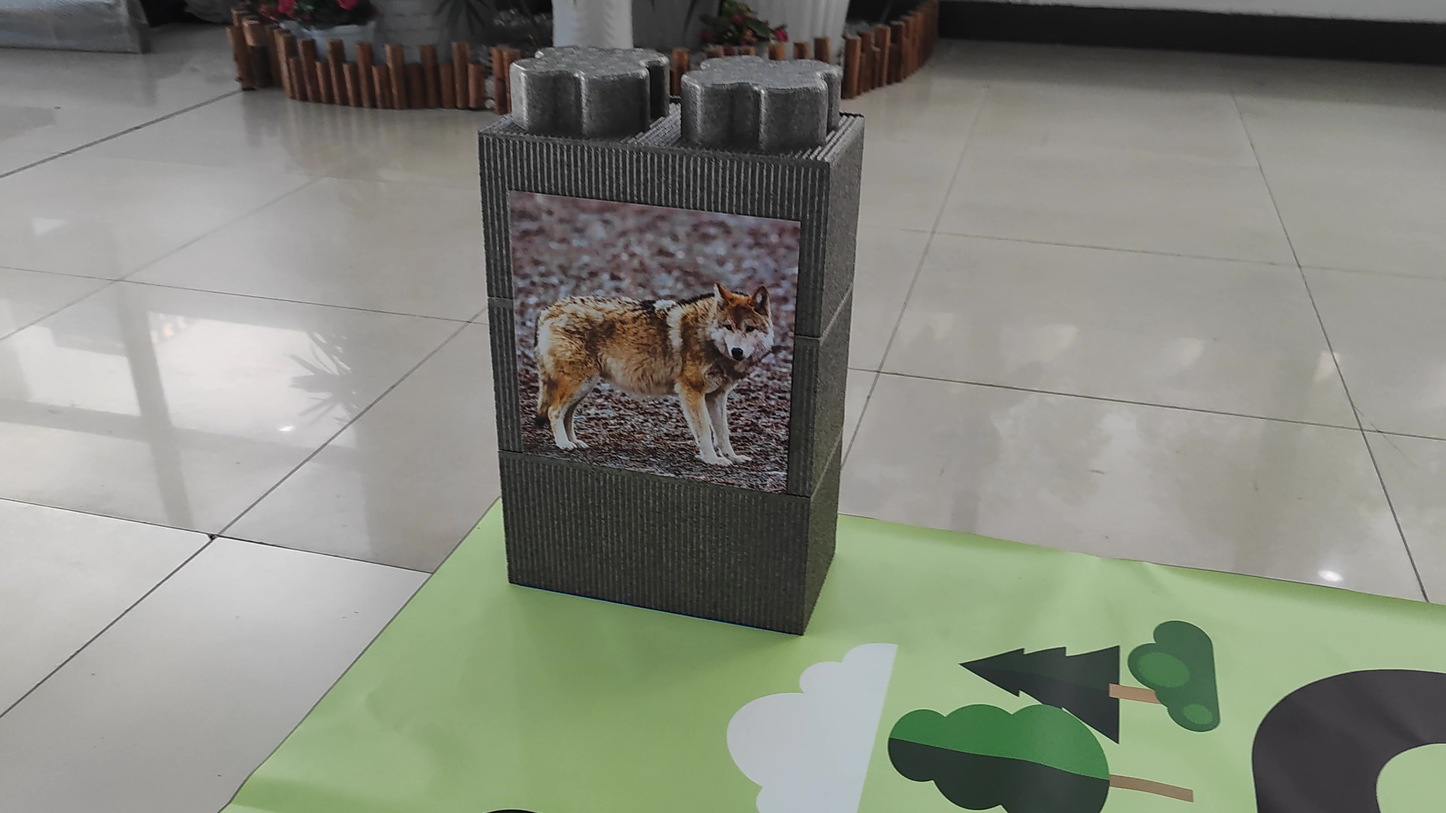wolf: (516, 243, 781, 486)
